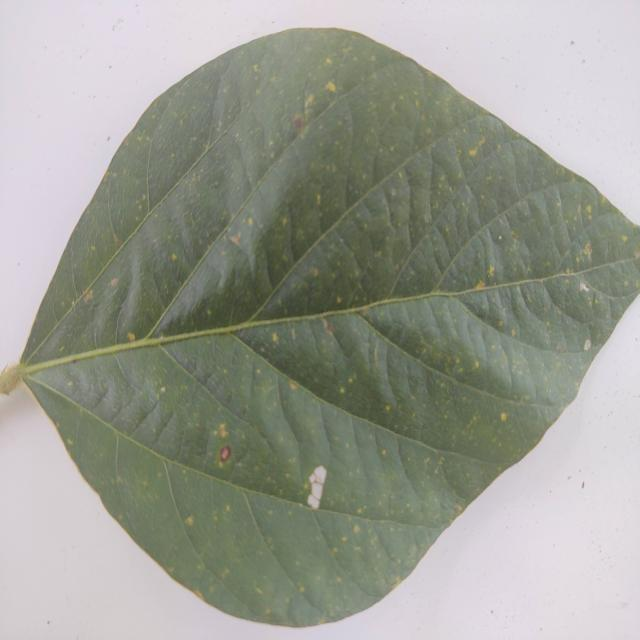Soybean: (0, 28, 640, 640)
downey_mildew: (30, 336, 271, 590), (393, 126, 639, 361), (234, 312, 478, 486), (157, 456, 325, 622), (300, 128, 428, 313), (219, 44, 355, 189), (444, 179, 579, 308), (286, 497, 426, 616), (141, 346, 261, 477), (28, 243, 147, 372), (142, 59, 235, 220), (315, 61, 431, 182), (256, 209, 377, 324), (440, 270, 586, 360), (154, 225, 268, 339), (107, 430, 189, 583), (531, 182, 636, 300), (308, 442, 450, 529), (231, 315, 347, 403), (238, 361, 308, 479), (100, 347, 178, 446), (253, 207, 347, 287), (423, 168, 488, 274), (69, 187, 123, 313), (165, 459, 231, 557), (441, 304, 508, 395), (431, 437, 515, 506), (338, 183, 397, 280), (276, 366, 333, 463), (76, 409, 128, 513), (107, 133, 152, 251), (568, 249, 640, 321), (205, 137, 254, 234), (160, 336, 228, 397), (113, 246, 155, 342), (59, 356, 115, 422), (401, 147, 434, 253), (537, 189, 578, 274), (385, 333, 422, 419), (467, 222, 504, 288), (200, 423, 243, 479), (201, 79, 222, 166), (122, 394, 152, 435), (461, 295, 496, 326)
